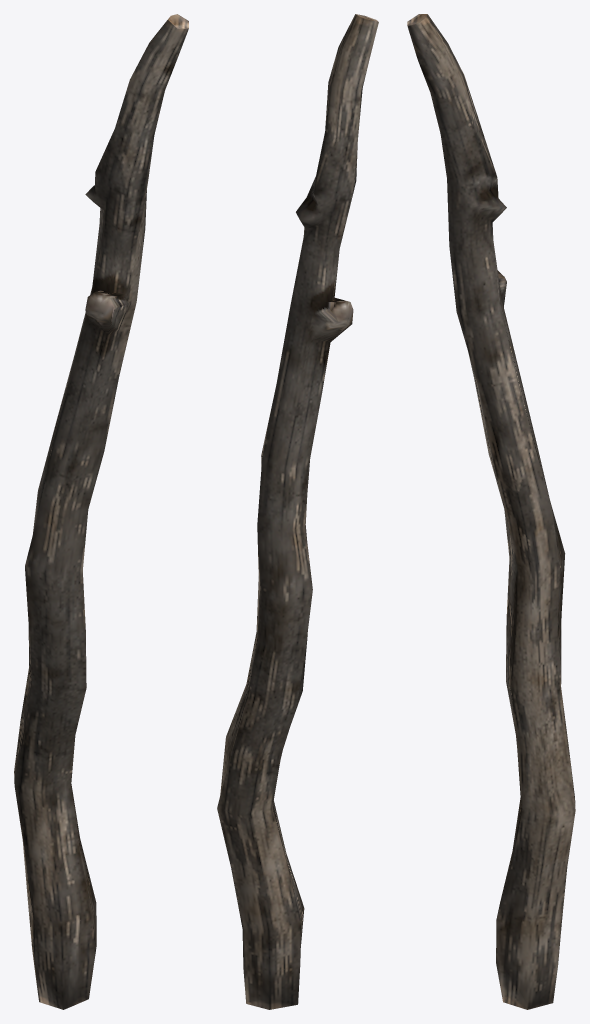
The model's file is SM_Single_Twig_A.fbx.
3 renders of one model, left to right at view 1: azimuth 90°, elevation 25°; view 2: azimuth 150°, elevation 25°; view 3: azimuth 270°, elevation 25°, orthographic. The views are drawn at different scales.
Visible parts, largest first — view 1: SM_Single_Twig_A_LOD0; view 2: SM_Single_Twig_A_LOD0; view 3: SM_Single_Twig_A_LOD0.
Boxes of the visible parts, x1,y1,x2,y2 form: SM_Single_Twig_A_LOD0: [14, 14, 188, 1009]; SM_Single_Twig_A_LOD0: [217, 14, 378, 1009]; SM_Single_Twig_A_LOD0: [407, 14, 575, 1009].
Bounding box in the file's own units: 11.04 × 15.68 × 99.82.
Materials: 1 (1 with a texture image).
